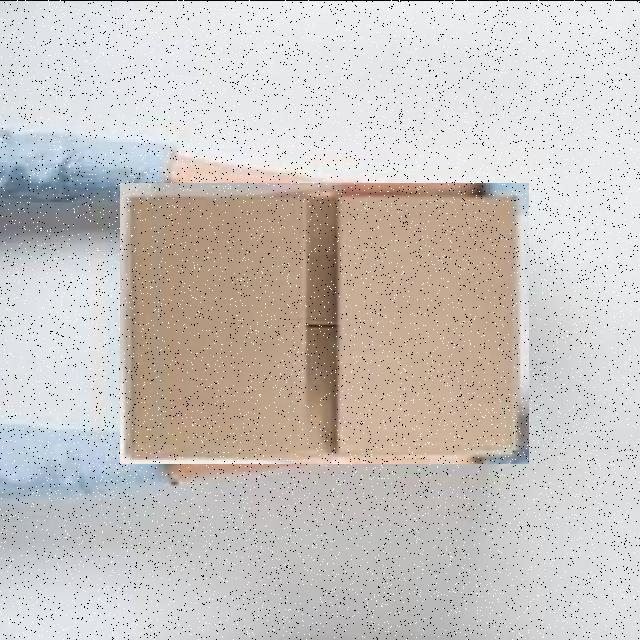defect: (120, 182, 529, 463)
